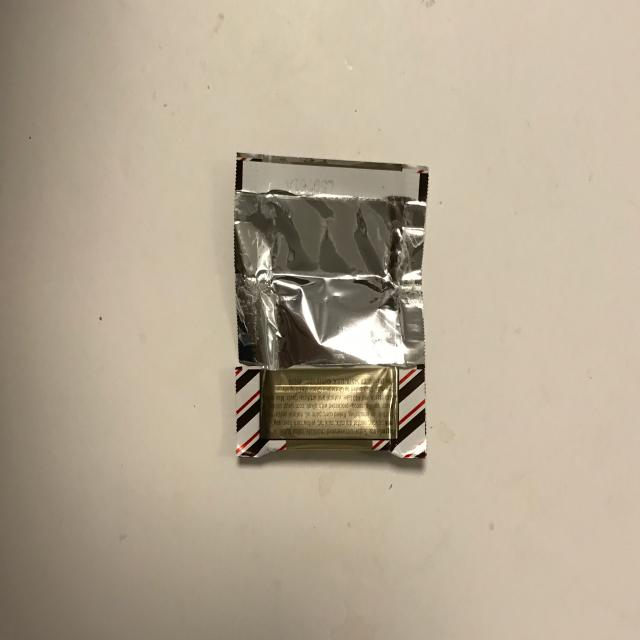trash: (233, 153, 428, 460)
